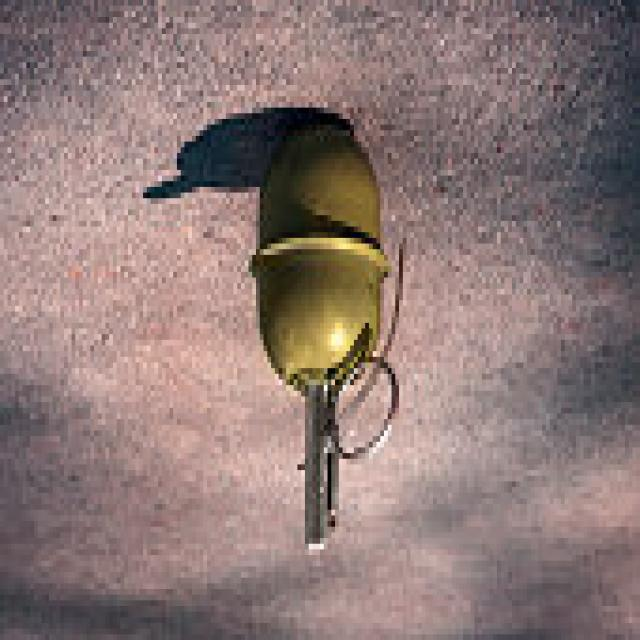grenade: (241, 110, 418, 564)
